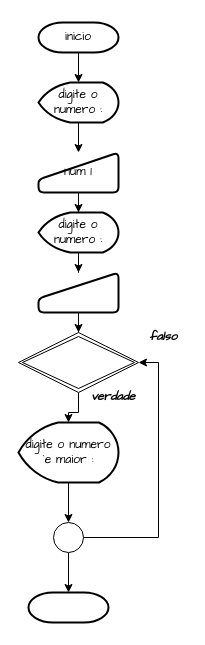
This 205x645 diagram has some shape labels left out. Here are the shapes that lost their labels. From the top down, the centre of each, then its label:
At point 78,292: "num 2".
At point 78,362: "num1 > num2".
At point 68,607: "fim.".
